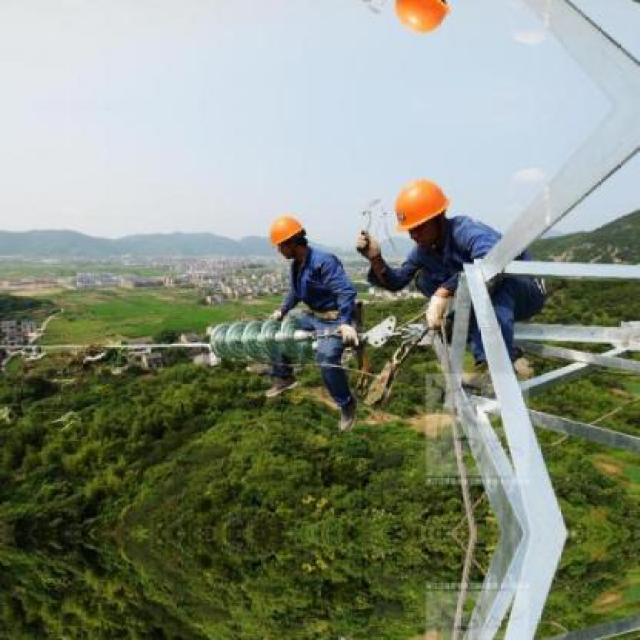helmet: (388, 169, 455, 252), (388, 0, 457, 45), (265, 207, 310, 263)
